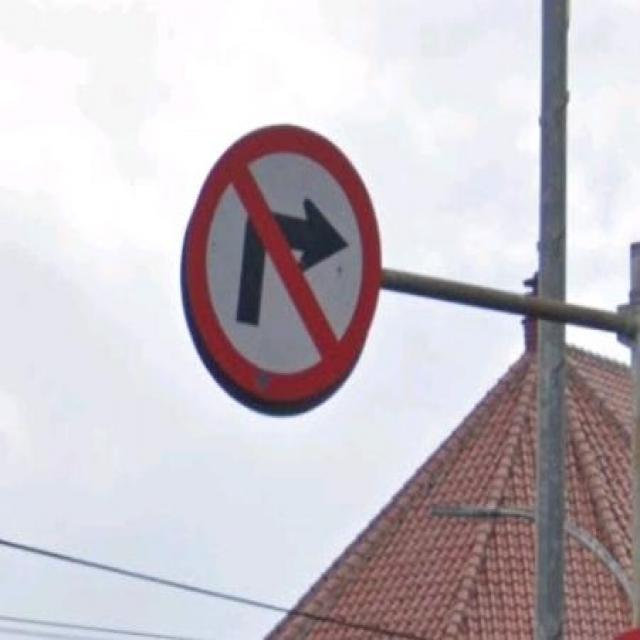traffic sign: (189, 124, 380, 402)
